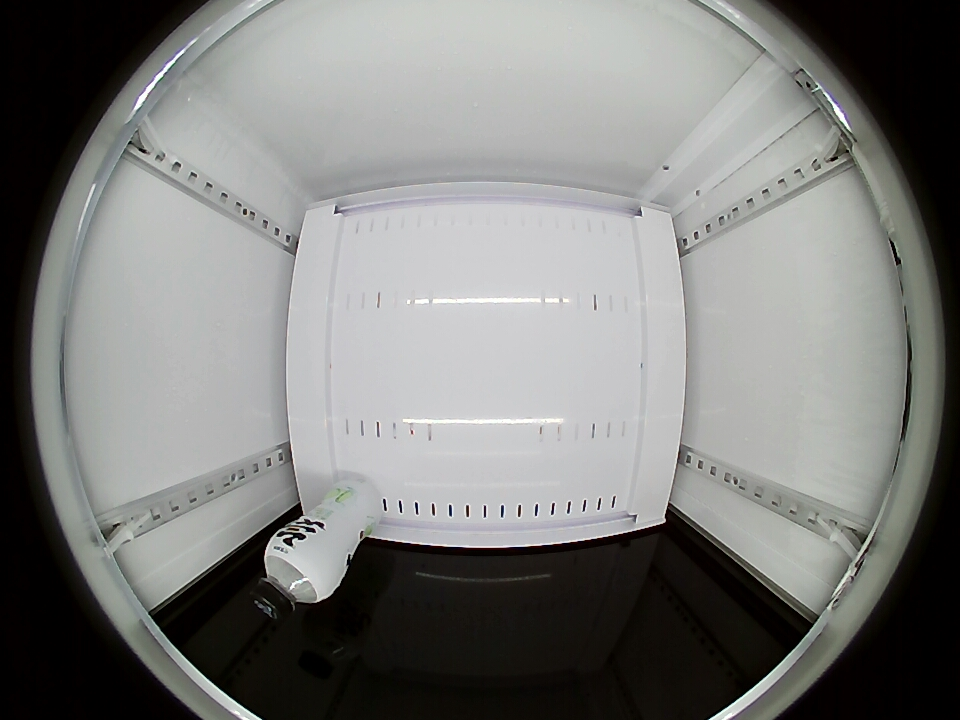yuanqishui: (250, 531, 343, 623)
